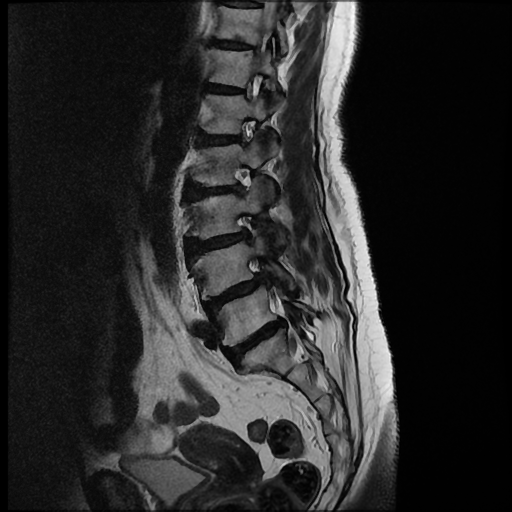LFS0: (223, 155, 266, 205), (226, 109, 269, 154)
LFS2: (220, 207, 268, 253)
